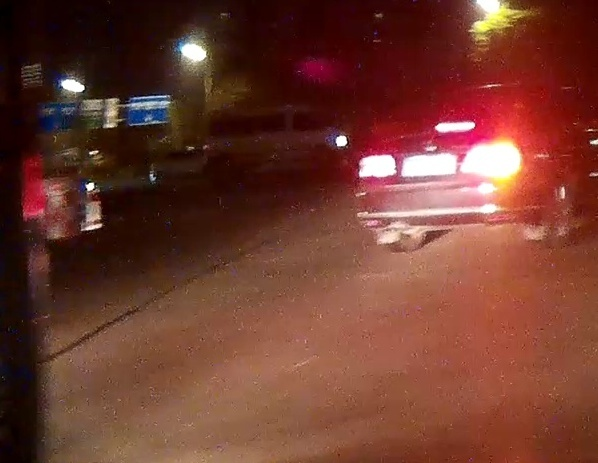L_light: (358, 154, 397, 179)
R_light: (466, 142, 520, 178)
T_light: (434, 121, 475, 132)
night-right: (354, 84, 523, 252)
